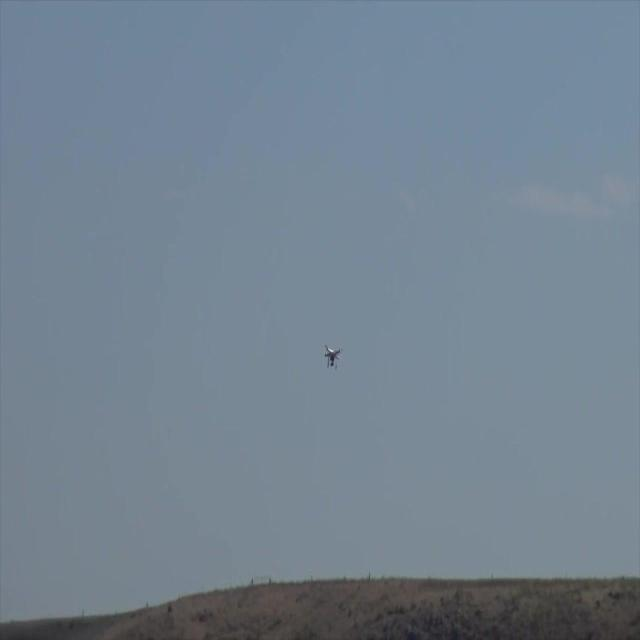drone: (322, 341, 344, 372)
